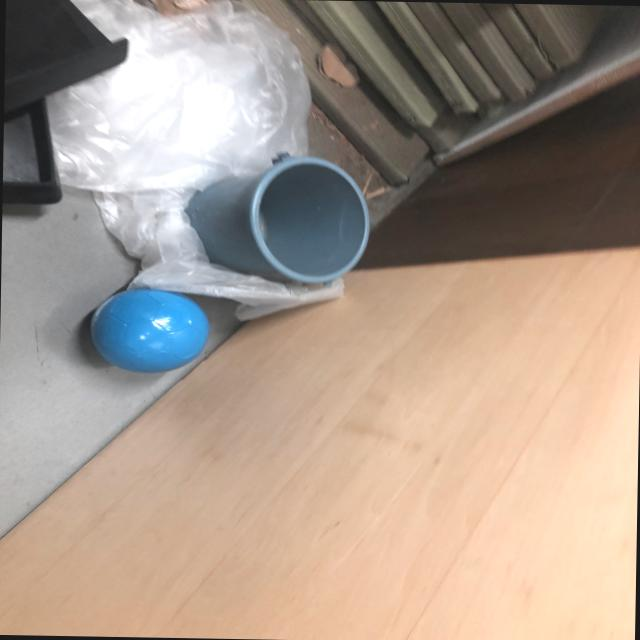blue_ball: (83, 285, 217, 376)
